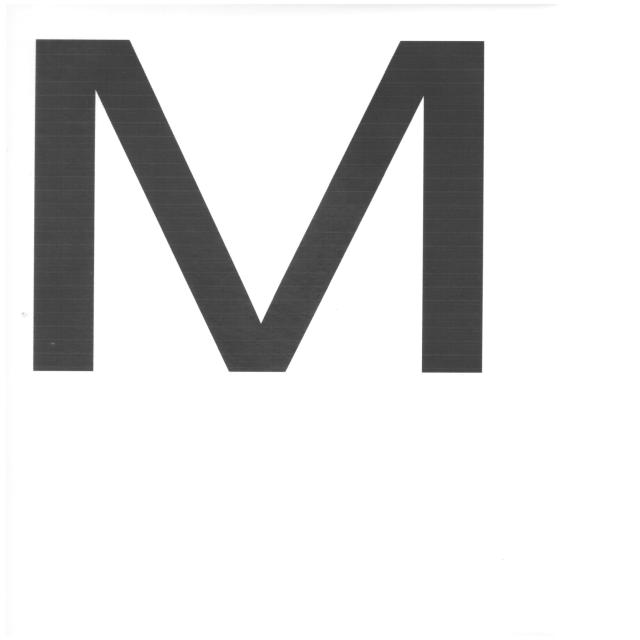m: (1, 19, 515, 396)
